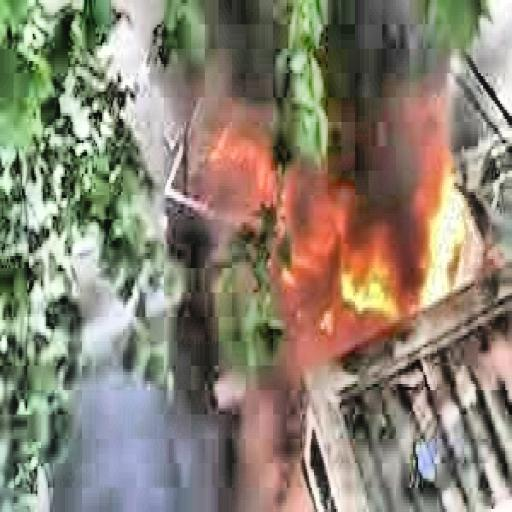fire: (178, 100, 493, 375)
